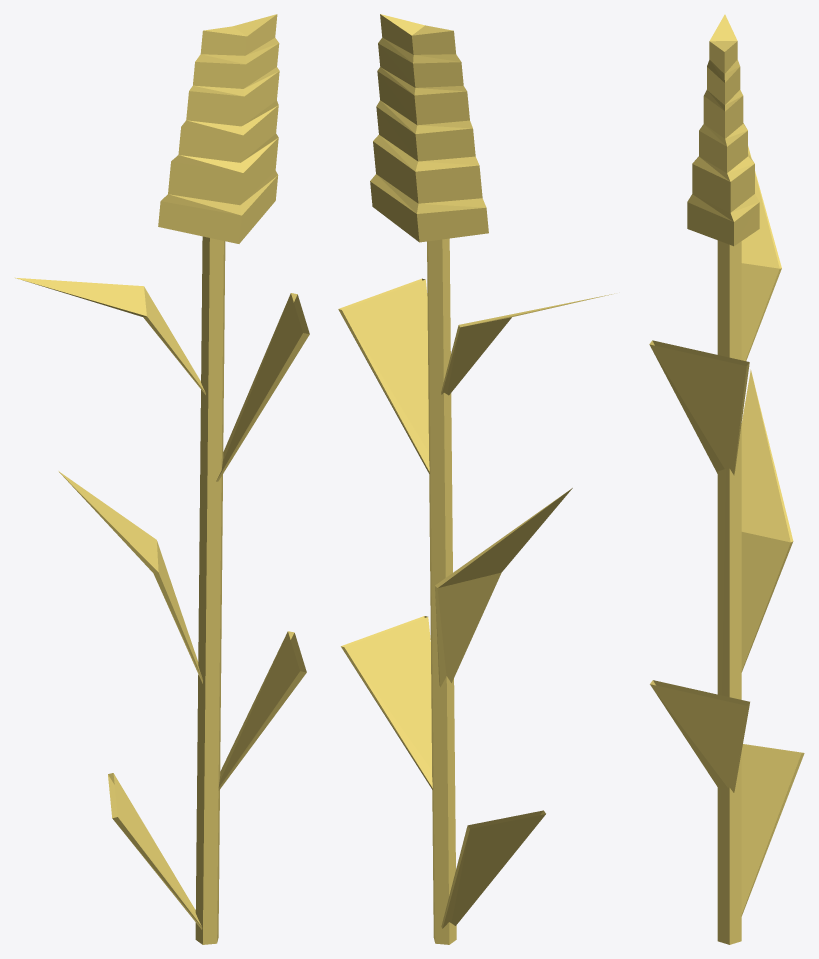
Rendered from wheat_01.glb.
The picture shows the model from 3 angles, left to right: view 1: azimuth 30°, elevation 25°; view 2: azimuth 150°, elevation 25°; view 3: azimuth 270°, elevation 25°; orthographic projection.
Parts seen in each view (by area): view 1: wheat_01; view 2: wheat_01; view 3: wheat_01.
Boxes of the visible parts, box(x1,y1,x2,y2) form: wheat_01: box(14, 14, 309, 944); wheat_01: box(338, 14, 614, 944); wheat_01: box(649, 14, 804, 944).
Size of the model in its own units: 0.3577 by 1.1 by 0.168.
